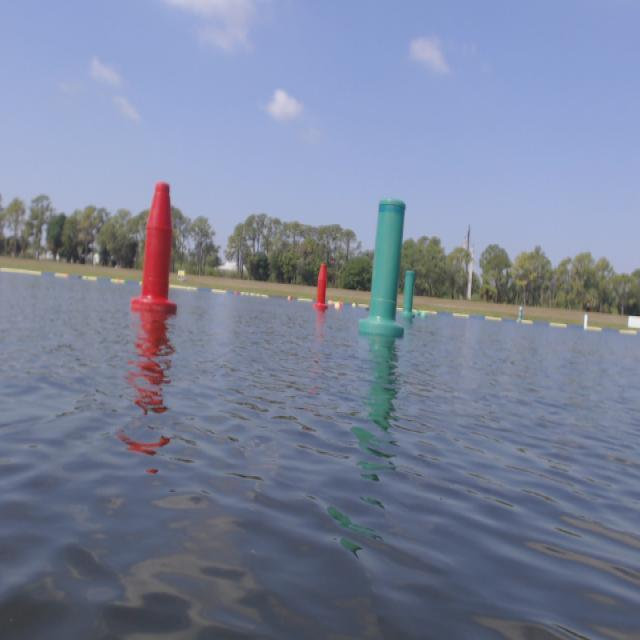Green_Buoy: (368, 198, 404, 350), (405, 275, 417, 325)
Red_Buoy: (135, 182, 192, 330), (314, 267, 328, 318)
